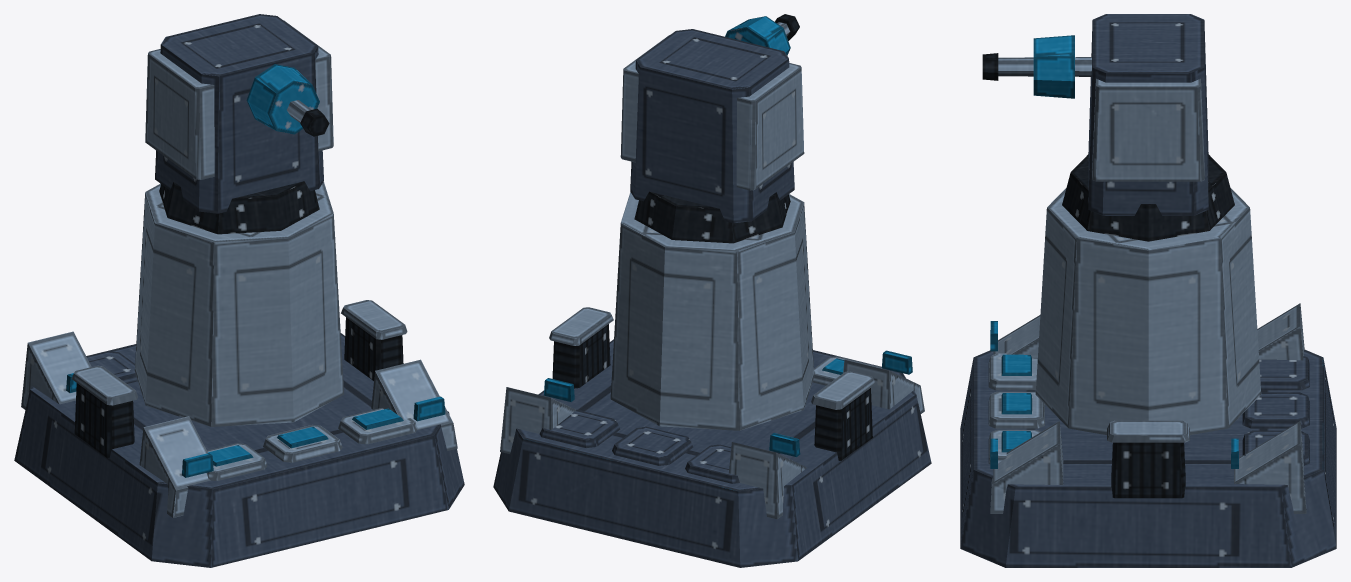
The model's file is building-laser.fbx.
3 renders of one model, left to right at view 1: azimuth 30°, elevation 25°; view 2: azimuth 150°, elevation 25°; view 3: azimuth 270°, elevation 25°, orthographic. The views are drawn at different scales.
Visible parts, largest first — view 1: building-laser; view 2: building-laser; view 3: building-laser.
Part boxes in pixels (x1=…): building-laser: x1=14, y1=14, x2=464, y2=567; building-laser: x1=493, y1=14, x2=931, y2=567; building-laser: x1=960, y1=14, x2=1336, y2=567.
Size of the model in its own units: 728 by 966 by 728.
Materials: 1 (1 with a texture image).
